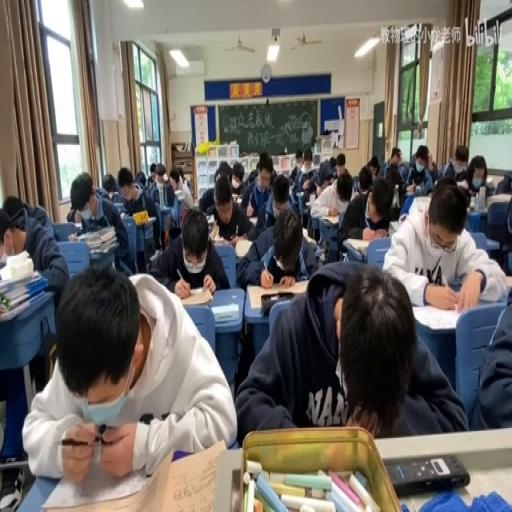calculator: (245, 280, 306, 309), (410, 301, 462, 330), (176, 180, 200, 228), (174, 286, 213, 306), (212, 302, 238, 322), (234, 236, 254, 258), (345, 238, 370, 253), (134, 214, 158, 228), (261, 245, 274, 270), (216, 232, 238, 246), (302, 229, 318, 247), (318, 213, 340, 225), (489, 192, 510, 202), (208, 222, 219, 240), (314, 243, 326, 259), (387, 219, 400, 233), (111, 189, 124, 202), (304, 196, 317, 206), (67, 232, 80, 242), (112, 202, 125, 212), (149, 248, 158, 260), (506, 273, 512, 290), (248, 214, 258, 224), (206, 213, 214, 225), (174, 189, 184, 198), (232, 192, 239, 202), (296, 190, 304, 198), (118, 210, 126, 218)
paper: (24, 260, 234, 482), (236, 258, 462, 440), (382, 179, 508, 310), (0, 196, 68, 312), (149, 202, 228, 296), (235, 199, 316, 290), (469, 278, 511, 432), (67, 171, 130, 273), (336, 172, 391, 256), (404, 144, 434, 194), (292, 148, 320, 200), (459, 155, 488, 205), (382, 147, 405, 179), (2, 196, 24, 229), (406, 192, 431, 220), (358, 153, 379, 185), (230, 159, 244, 192), (214, 160, 233, 184), (493, 170, 512, 194), (101, 171, 117, 199), (335, 154, 347, 179), (434, 175, 456, 188), (454, 146, 468, 166), (154, 166, 166, 185), (134, 171, 146, 189), (328, 154, 337, 176), (176, 166, 186, 185), (360, 179, 370, 196), (148, 160, 156, 180), (288, 165, 298, 181), (248, 168, 258, 183), (302, 148, 312, 163), (315, 180, 325, 194), (269, 168, 276, 183), (294, 149, 302, 162), (426, 151, 432, 168)
person: (385, 454, 470, 496)
